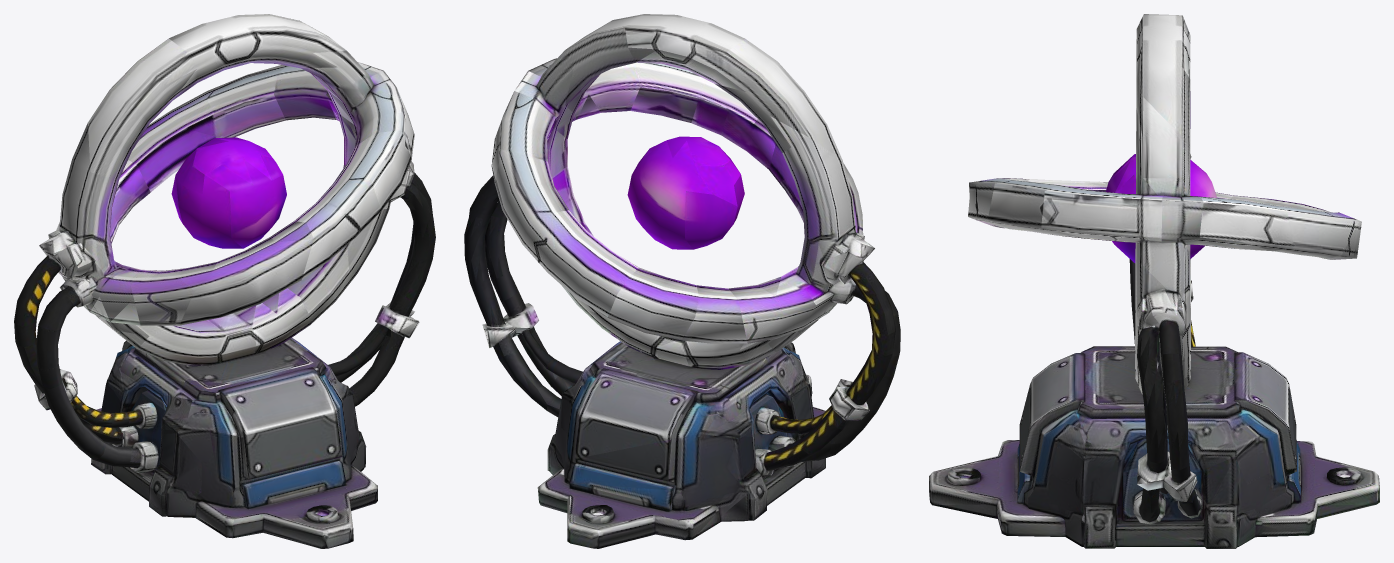
Rendered from magnetic_trap.glb.
3 renders of one model, left to right at view 1: azimuth 30°, elevation 25°; view 2: azimuth 150°, elevation 25°; view 3: azimuth 270°, elevation 25°, orthographic. The views are drawn at different scales.
Size of the model in its own units: 1 by 1 by 0.8828.
1 material, 1 textured.
